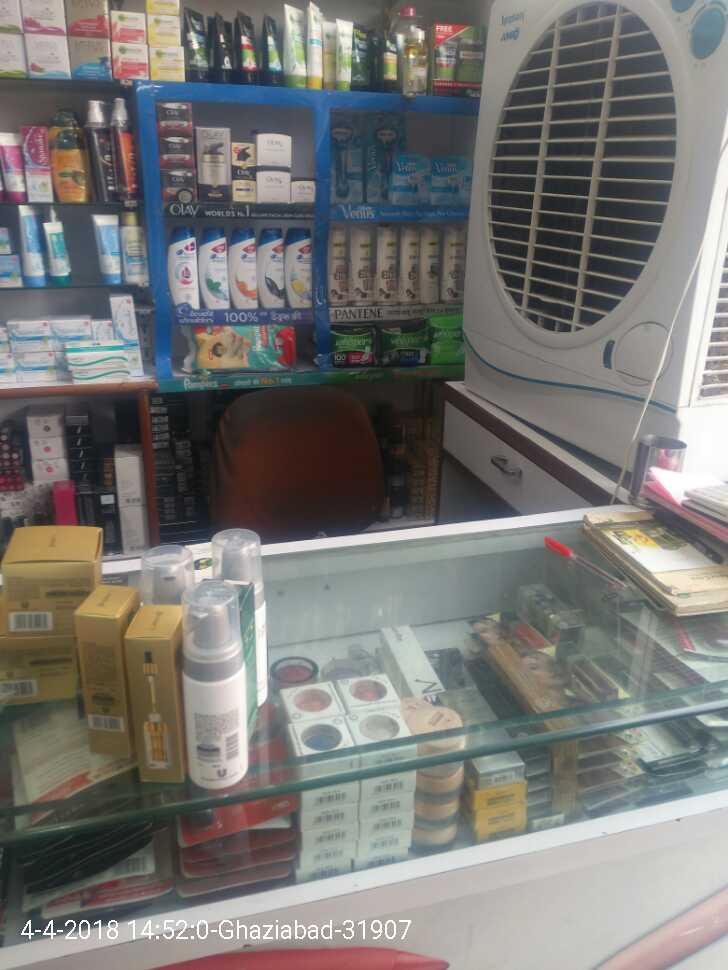venus: (332, 114, 364, 209), (363, 113, 392, 207), (431, 153, 470, 207), (392, 153, 430, 205)
